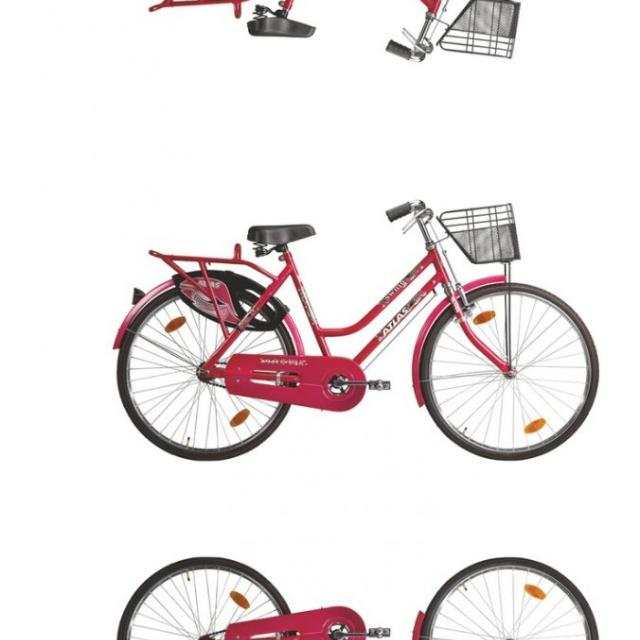obstacle: (98, 173, 608, 482), (98, 535, 607, 640), (98, 0, 607, 87)
